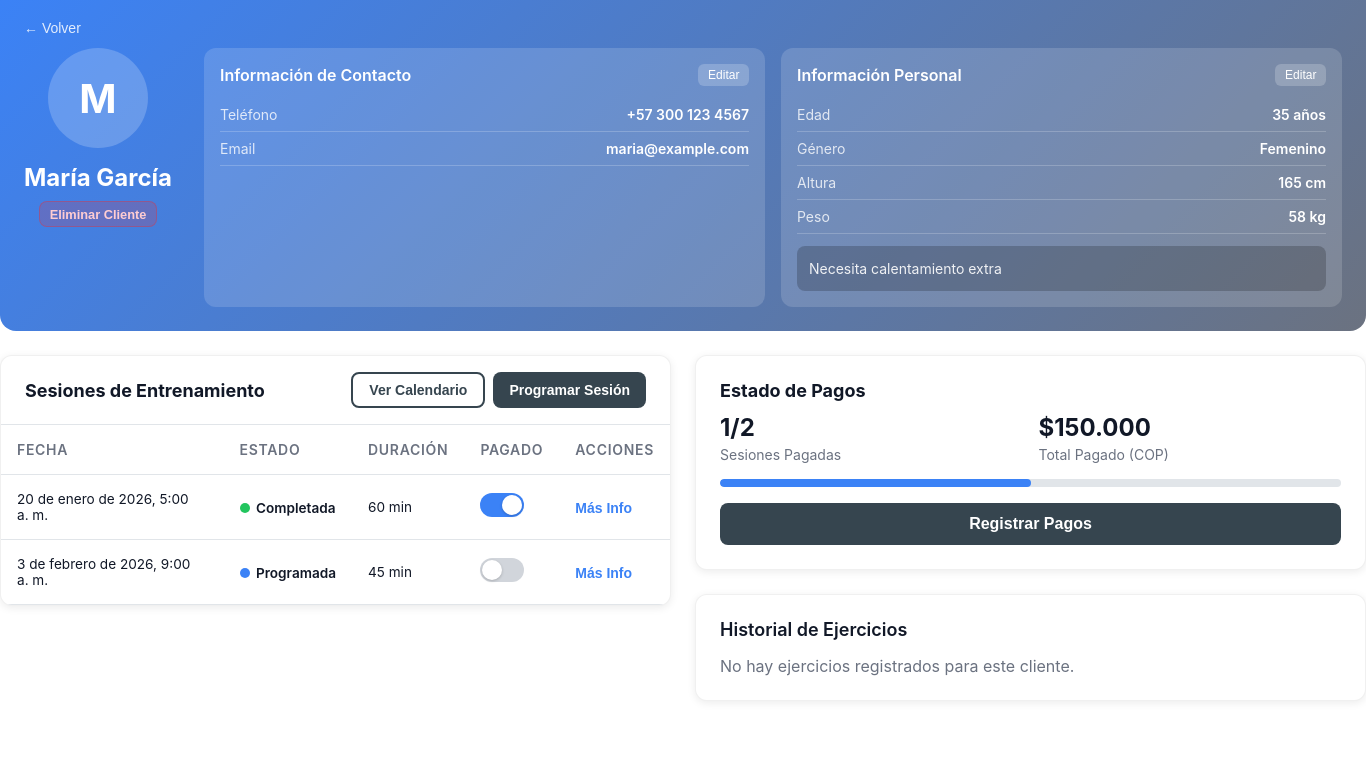
Test: ClientDetailPage › el modal de pagos se abre al hacer clic en "Registrar Pagos" y se cierra con ×
The width and height of the screenshot is (1366, 768).
Click the button "Registrar Pagos" at [1030, 524], box [720,503,1341,545]
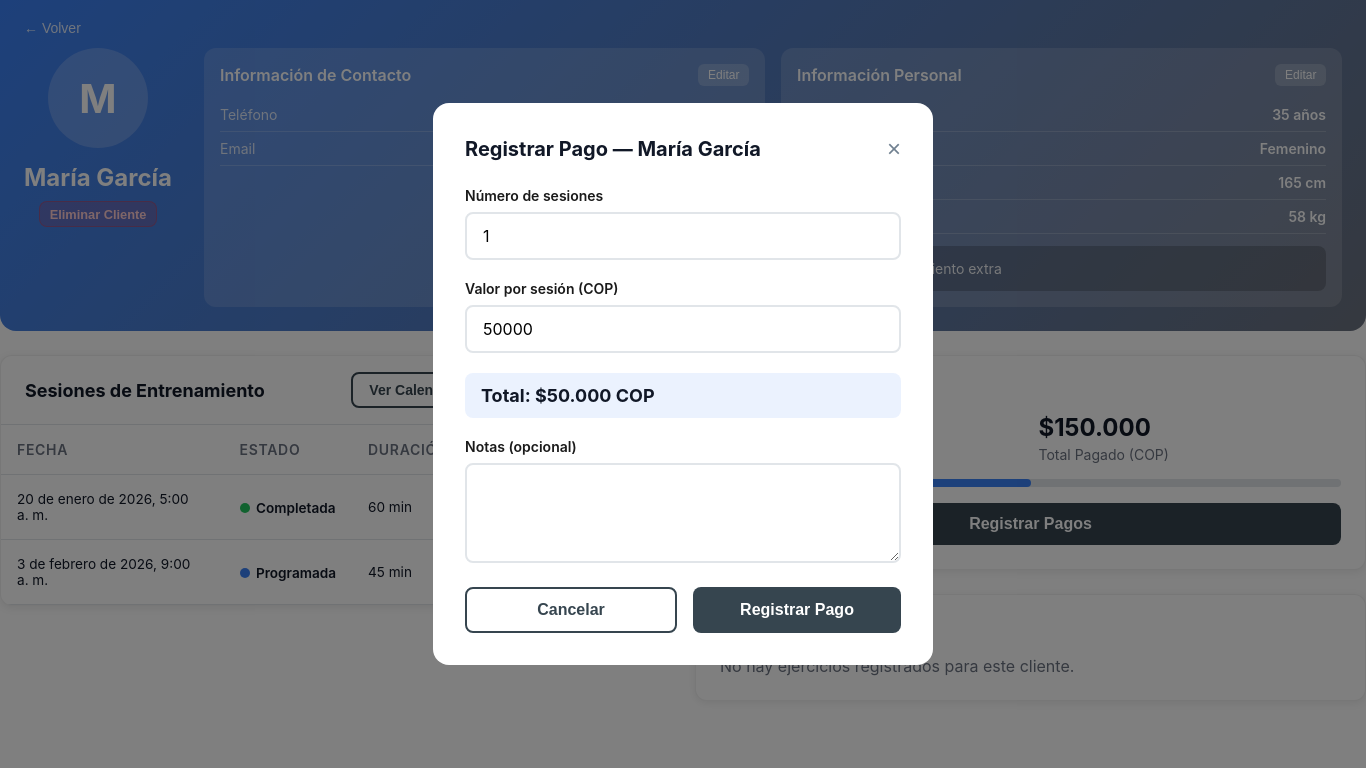
Expected: the heading "Registrar Pago — María García" is shown, [465,137,761,161]
Close via × button inside the modal
Click the button "×" at [894, 149], box [887,135,901,163]
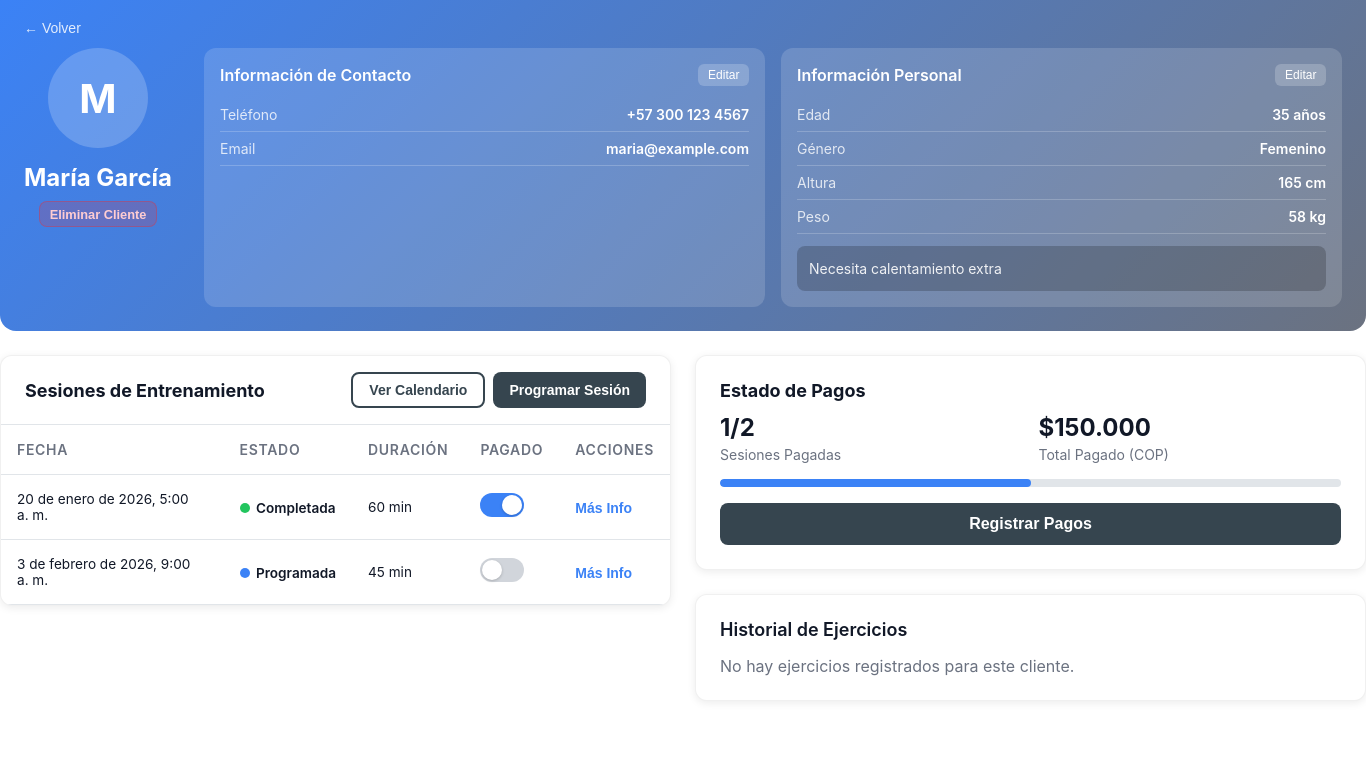
Expected: the heading "Registrar Pago — María García" is gone
